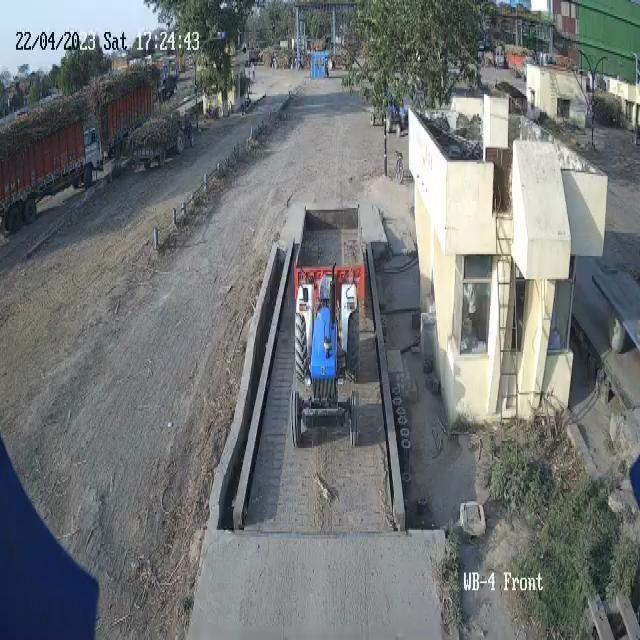Tratores - v5 YOLO V8L 2024-11-13: (290, 265, 366, 460), (383, 91, 408, 137)
